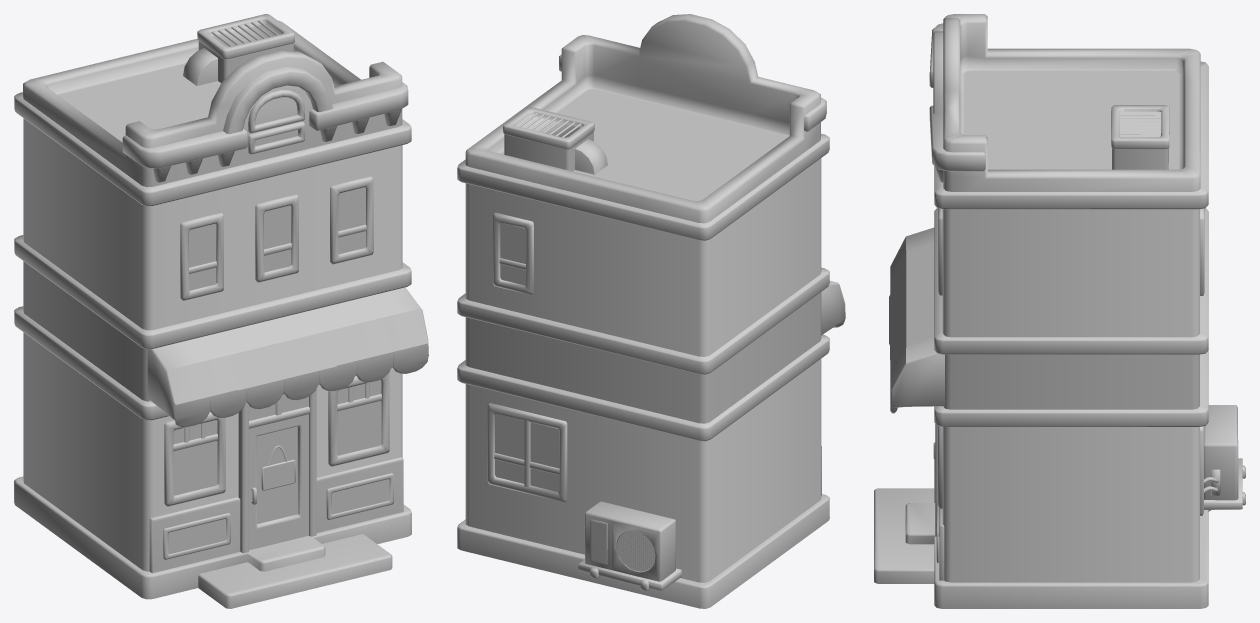
Rendered from barber_shop_01.fbx.
3 renders of one model, left to right at view 1: azimuth 30°, elevation 25°; view 2: azimuth 150°, elevation 25°; view 3: azimuth 270°, elevation 25°, orthographic. The views are drawn at different scales.
Parts seen in each view (by area): view 1: barber_shop_01, barber_shop_bricks_01, barber_shop_texture_01; view 2: barber_shop_01, barber_shop_bricks_01, barbershop_wire_01; view 3: barber_shop_01, barber_shop_bricks_01, barber_shop_texture_01.
Boxes of the visible parts, x1,y1,x2,y2 form: barber_shop_01: (14,14,428,608); barber_shop_bricks_01: (23,118,402,571); barber_shop_texture_01: (173,323,381,493); barber_shop_01: (457,14,845,608); barber_shop_bricks_01: (465,158,821,582); barbershop_wire_01: (617,531,655,571); barber_shop_01: (874,14,1245,608); barber_shop_bricks_01: (942,209,1199,582); barber_shop_texture_01: (889,268,904,359).
Size of the model in its own units: 2.96 by 5.31 by 3.48.
